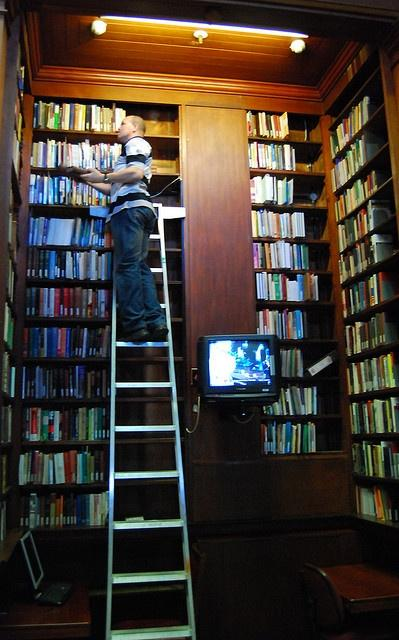Rak: (244, 47, 398, 532), (0, 94, 118, 531)
